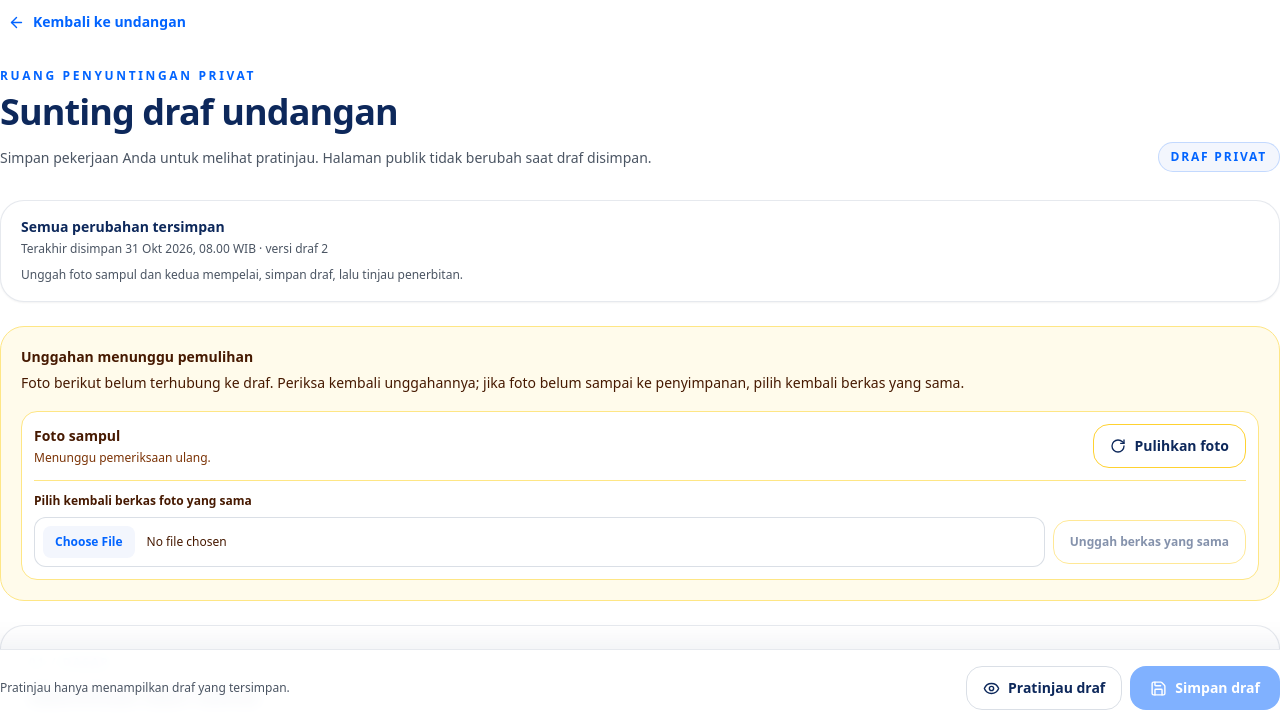
Scenario: admin draft editor › recovers a pending upload after reload and selects the verified draft-owned asset
What coordinates should you click on to do the following:
click the button "Pulihkan foto"
I would click on:
 (1170, 446)
Its box is x1=1094 y1=424 x2=1246 y2=468.
(page scrolled)
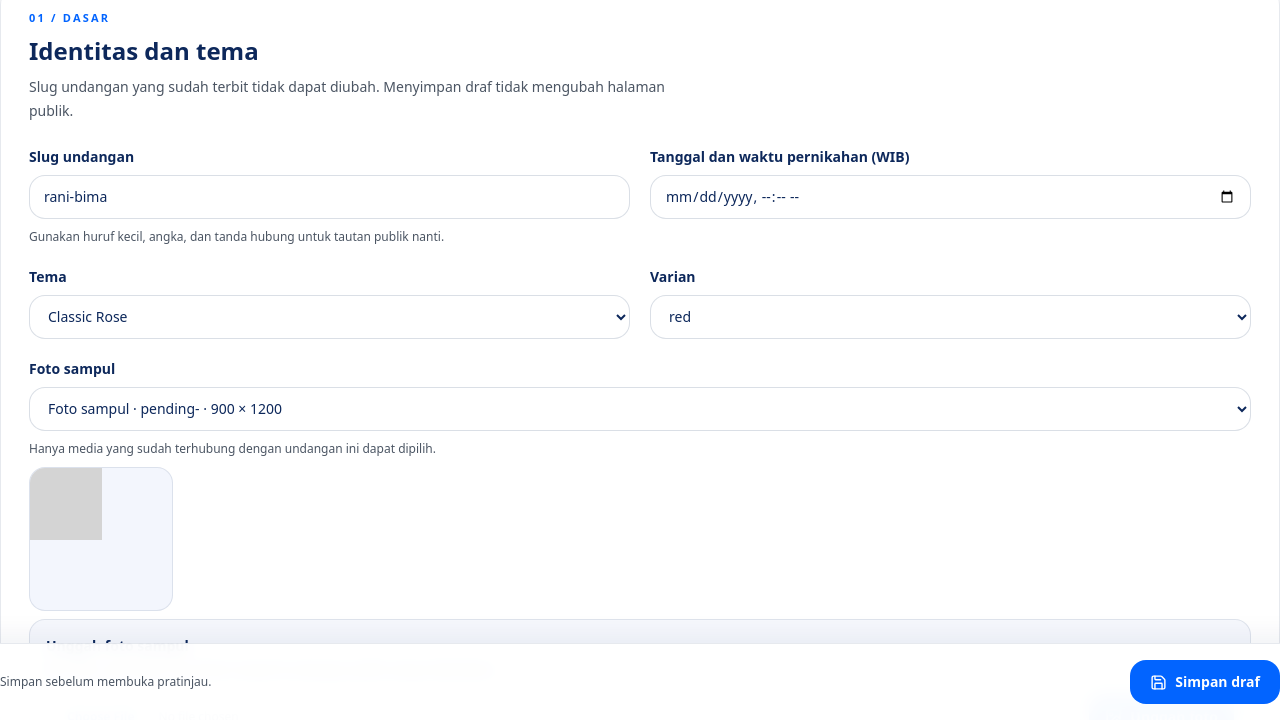
Check: the dropdown with id "draft-heroAssetId" shows "Foto sampul · pending- · 900 × 1200", box x1=29 y1=386 x2=1251 y2=430
Check: the text "Unggahan menunggu pemulihan" is gone
